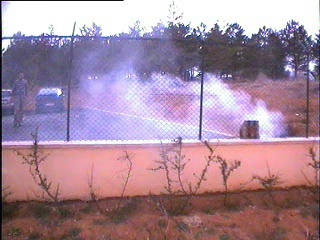smoke: (74, 33, 287, 139)
